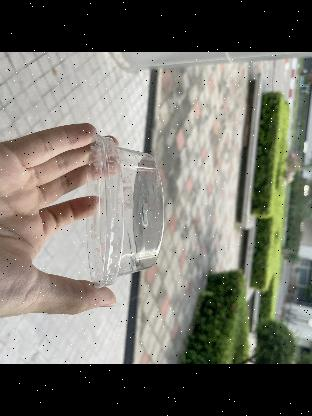Others: (79, 136, 167, 289)
